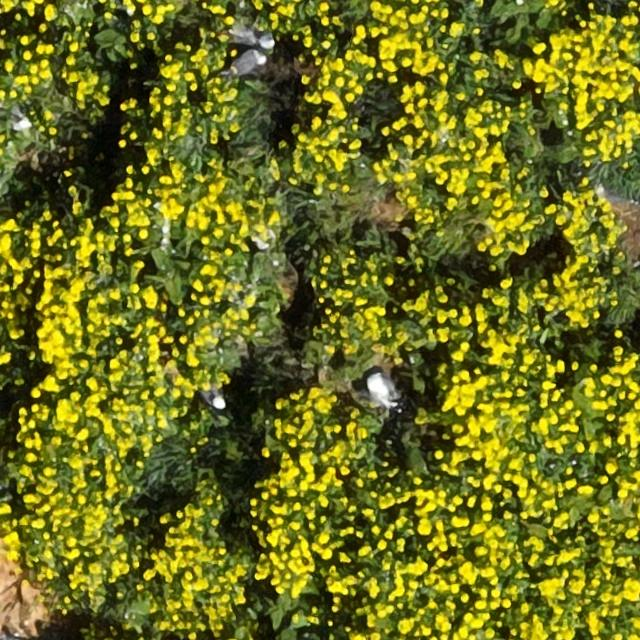umineko: (227, 46, 267, 73), (366, 376, 396, 408), (200, 388, 227, 411)
